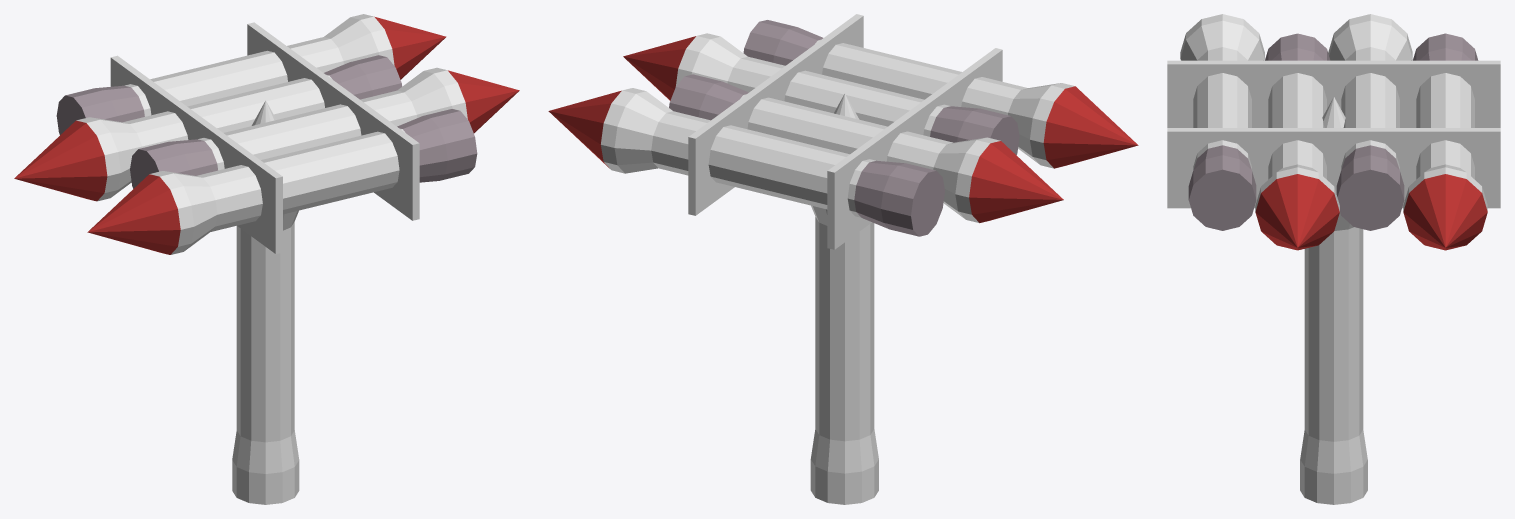
Rendered from missili-4-red.glb.
The picture shows the model from 3 angles, left to right: view 1: azimuth 30°, elevation 25°; view 2: azimuth 150°, elevation 25°; view 3: azimuth 270°, elevation 25°; orthographic projection.
Visible parts, largest first — view 1: stilo.004, stilo, stilo.001, stilo.002, stilo.003, Cube, Cube.001, ogiva.003, ogiva.002, Cone.003, Cone.006, Cone.001 (+4 smaller); view 2: stilo.001, stilo, stilo.003, stilo.004, stilo.002, Cube, Cube.001, Cone.004, ogiva.003, ogiva.002, Cone.003, Cone.001 (+4 smaller); view 3: stilo, Cube.001, Cube, stilo.004, stilo.003, stilo.001, stilo.002, ogiva, ogiva.001, Cone.006, Cone.005, Cone.003 (+3 smaller).
Part boxes in pixels (box(x1,y1,x2,y2)): stilo.004: box(149, 128, 405, 254); stilo: box(236, 210, 298, 442); stilo.001: box(125, 14, 394, 116); stilo.002: box(198, 67, 467, 170); stilo.003: box(76, 74, 332, 201); Cube: box(247, 22, 419, 220); Cube.001: box(110, 55, 282, 253); ogiva.003: box(87, 174, 180, 254); ogiva.002: box(14, 120, 107, 201); Cone.003: box(232, 430, 299, 504); Cone.006: box(397, 109, 477, 182); Cone.001: box(130, 139, 217, 188); stilo.001: box(600, 88, 875, 217); stilo: box(811, 205, 874, 441); stilo.003: box(740, 94, 1000, 222); stilo.004: box(815, 39, 1074, 168); stilo.002: box(675, 33, 950, 136); Cube: box(688, 14, 863, 215); Cube.001: box(827, 48, 1002, 249); Cone.004: box(854, 160, 944, 236); ogiva.003: box(1043, 86, 1138, 168); ogiva.002: box(969, 141, 1063, 222); Cone.003: box(810, 429, 878, 504); Cone.001: box(930, 106, 1019, 154); stilo: box(1304, 212, 1363, 441); Cube.001: box(1167, 60, 1500, 127); Cube: box(1167, 128, 1500, 208); stilo.004: box(1180, 14, 1264, 169); stilo.003: box(1328, 14, 1412, 169); stilo.001: box(1403, 73, 1487, 211); stilo.002: box(1255, 73, 1339, 211); ogiva: box(1403, 174, 1487, 250); ogiva.001: box(1255, 174, 1339, 250); Cone.006: box(1188, 145, 1256, 230); Cone.005: box(1336, 145, 1404, 230); Cone.003: box(1300, 430, 1367, 504).
Bounding box in the file's own units: 12.96 × 10.38 × 7.89.
